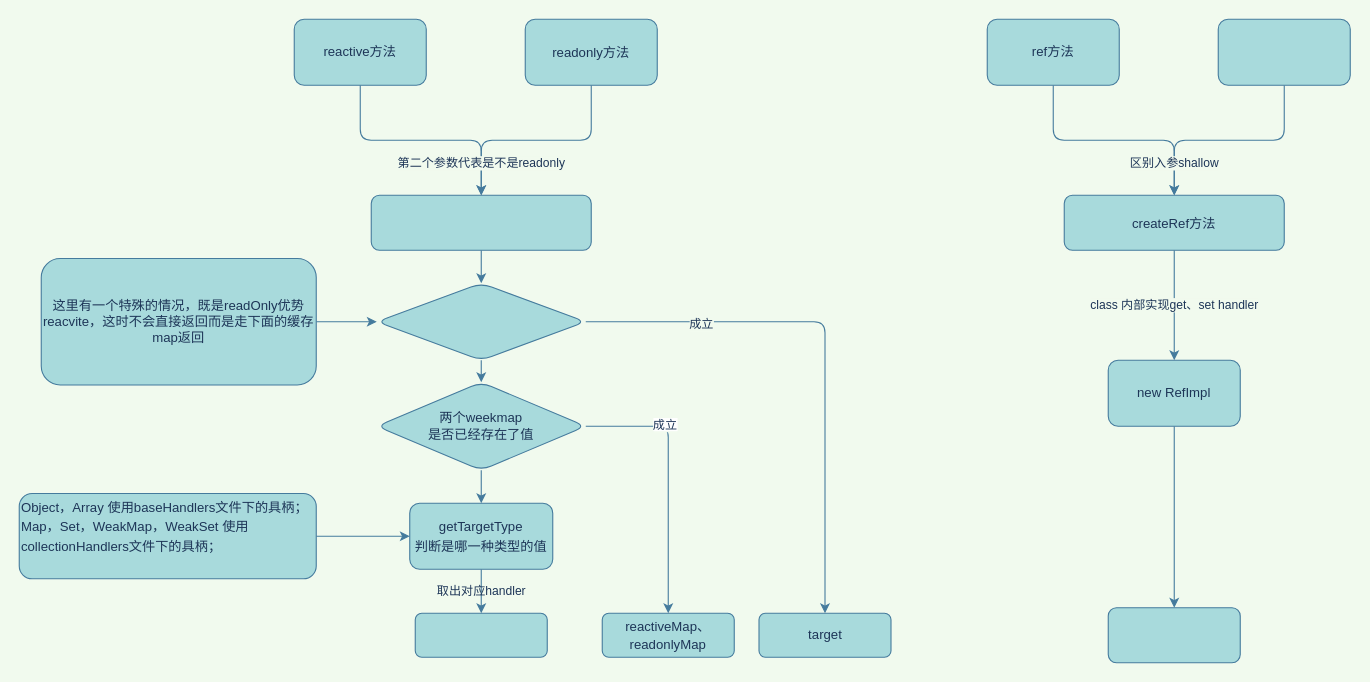
Some shapes in this 1370 by 682 pixel diagram are drawn without their labels. The shapes that lost their labels are listed below. From the top down, each one's centre as x and y in pixels, then its label:
At point (1283, 51): "shallowRef方法".
At point (480, 222): "createReactiveObject方法".
At point (481, 321): "非对象或者说 已经是reactive？".
At point (480, 634): "new Proxy".
At point (1173, 635): "class".
